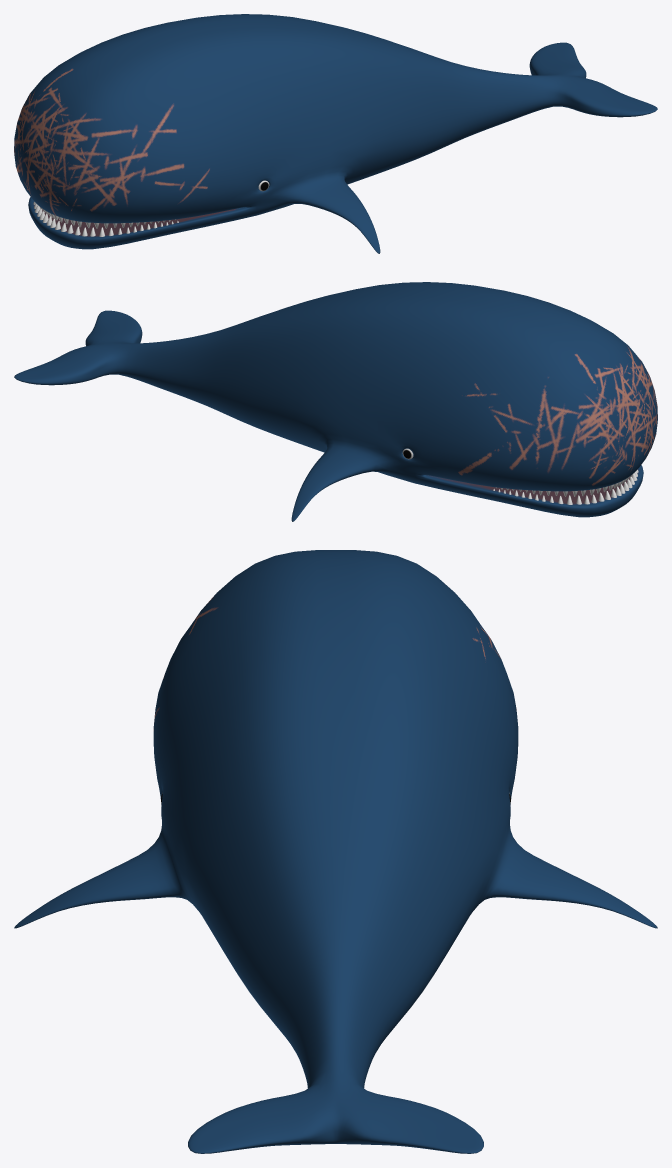
The model's file is laboon.obj.
3 views of the same model, one above another, from view 1: azimuth 30°, elevation 25°; view 2: azimuth 150°, elevation 25°; view 3: azimuth 270°, elevation 25° (orthographic). The views are drawn at different scales.
Parts seen in each view (by area): view 1: Laboon; view 2: Laboon; view 3: Laboon.
Boxes of the visible parts, x1,y1,x2,y2 form: Laboon: [14, 14, 657, 253]; Laboon: [14, 282, 657, 521]; Laboon: [14, 550, 657, 1153].
Bounding box in the file's own units: 4419 × 1282 × 2715.
1 material, 1 textured.
